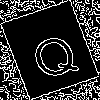Q: (25, 24, 83, 84)
